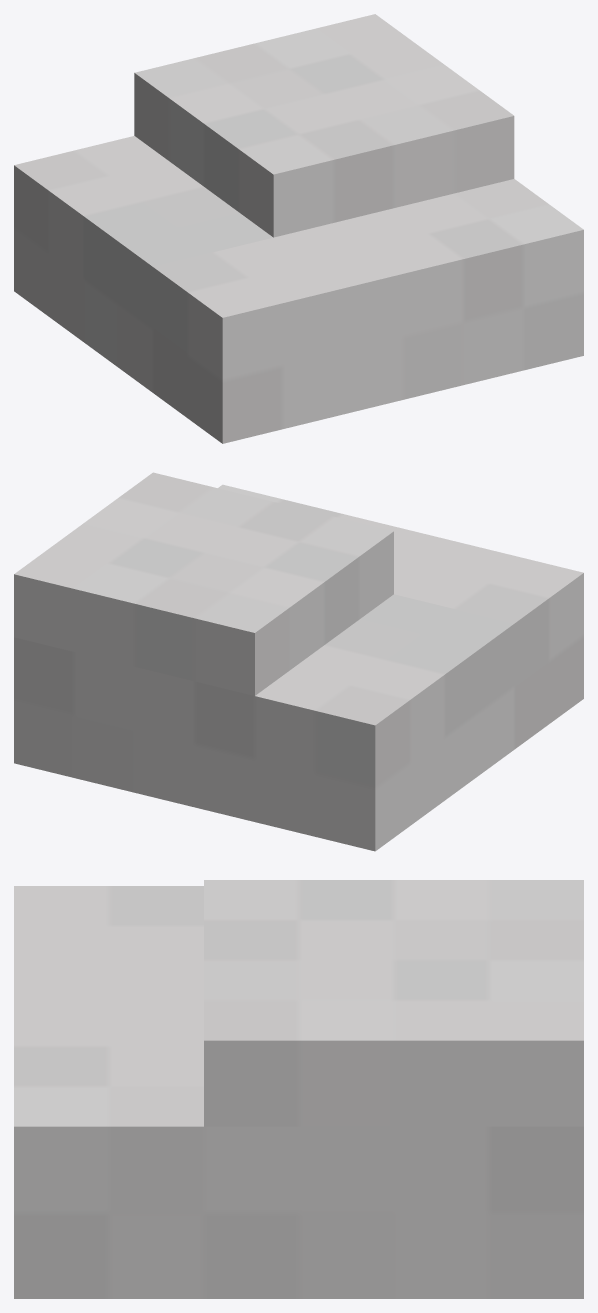
File: Rock_A.fbx
3 renders of one model, top to bottom at view 1: azimuth 30°, elevation 25°; view 2: azimuth 150°, elevation 25°; view 3: azimuth 270°, elevation 25°, orthographic. The views are drawn at different scales.
Parts seen in each view (by area): view 1: Rock_A; view 2: Rock_A; view 3: Rock_A.
Part boxes in pixels (x1=…): Rock_A: x1=14, y1=14, x2=583, y2=443; Rock_A: x1=14, y1=472, x2=583, y2=851; Rock_A: x1=14, y1=880, x2=583, y2=1298.
Size of the model in its own units: 6 by 3 by 6.
